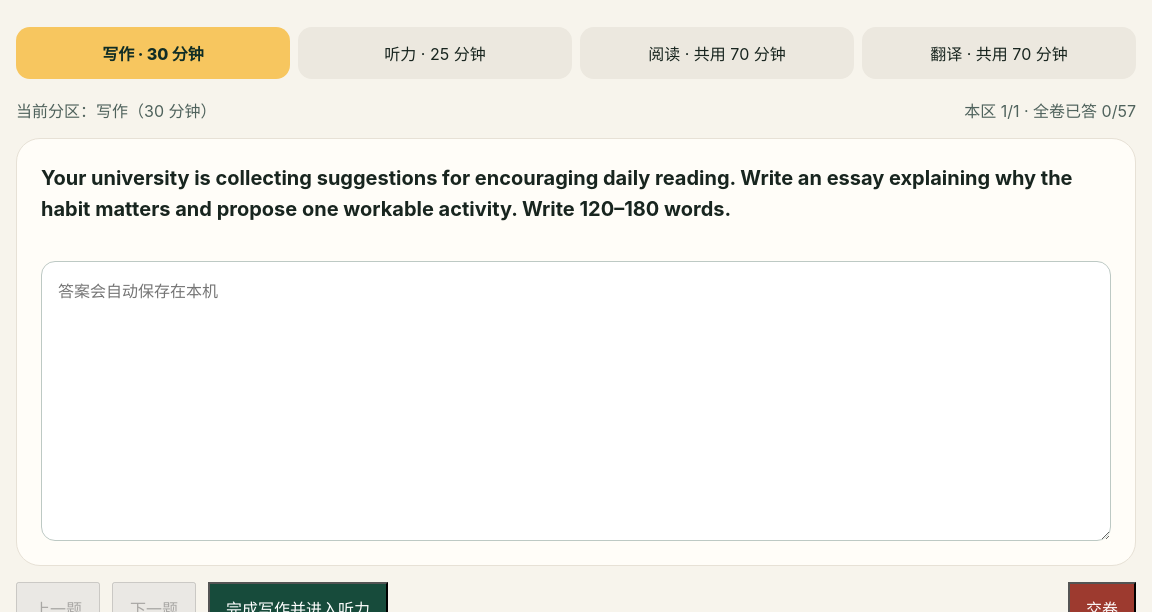
Test: ExamSession › shows a real save failure, keeps the answer, and retries before claiming success
The image size is (1152, 612).
Type "My saved draft." into the text box named "写作答题区". click: (576, 401)
box: left=41, top=261, right=1111, bottom=541
(page scrolled)
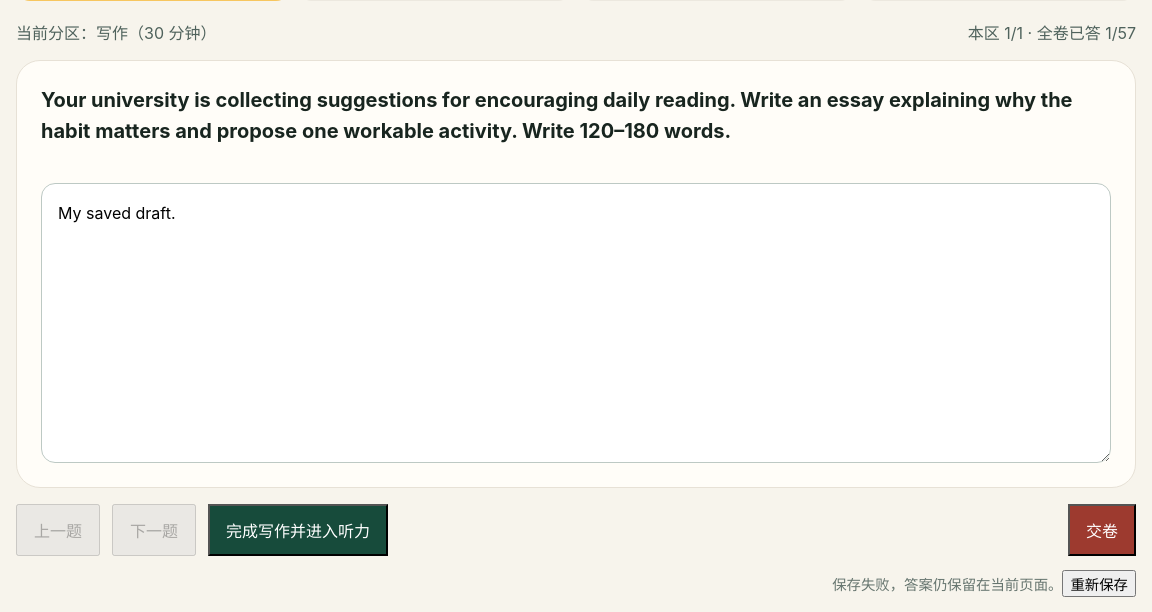
Now the message shows "保存失败", box left=832, top=576, right=1062, bottom=593
Click the button "重新保存". click: (1099, 584)
box: left=1062, top=570, right=1136, bottom=597
(page scrolled)
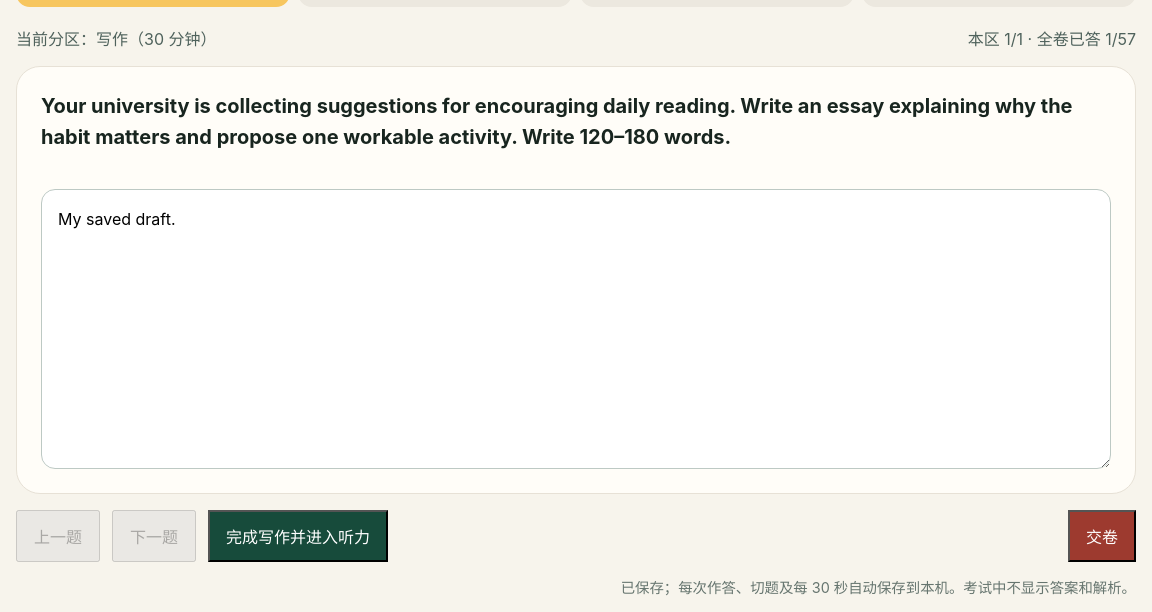
Now the message shows "已保存", box left=621, top=579, right=664, bottom=596
